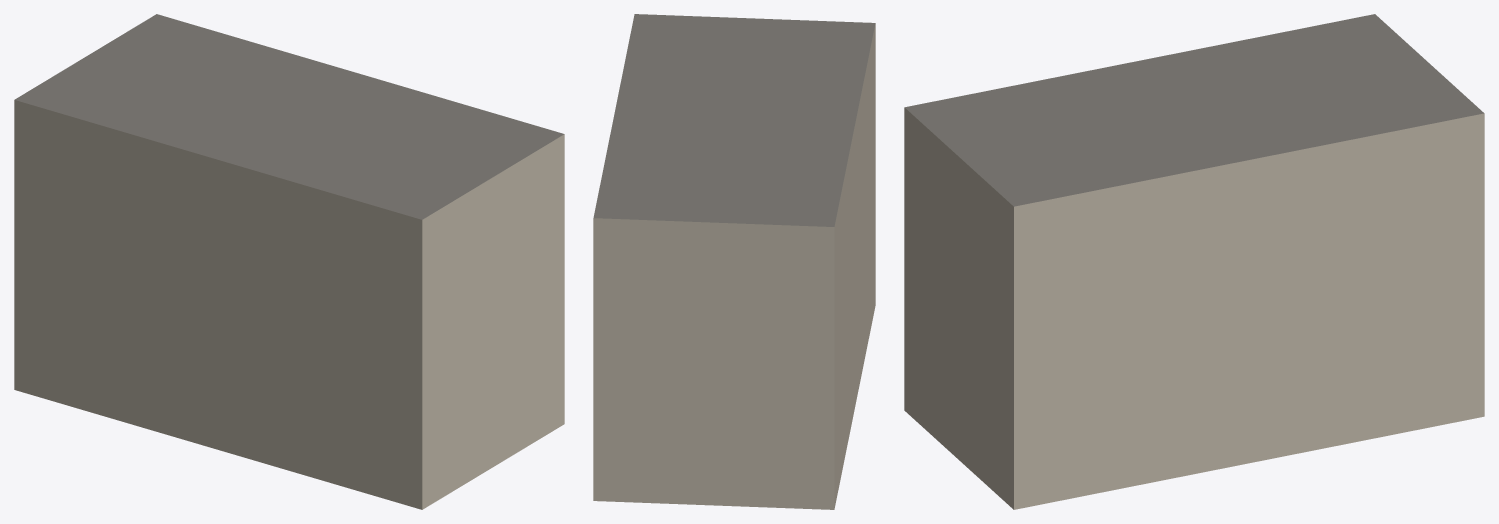
3 views of the same model, side by side, from view 1: azimuth 30°, elevation 25°; view 2: azimuth 150°, elevation 25°; view 3: azimuth 270°, elevation 25° (orthographic). The views are drawn at different scales.
Parts seen in each view (by area): view 1: HP-w1202250230; view 2: HP-w1202250230; view 3: HP-w1202250230.
Part boxes in pixels (bbox=[...]): HP-w1202250230: bbox=[14, 14, 564, 509]; HP-w1202250230: bbox=[593, 14, 875, 509]; HP-w1202250230: bbox=[904, 14, 1484, 509].
Bounding box in the file's own units: 16.35 × 12 × 20.8.
